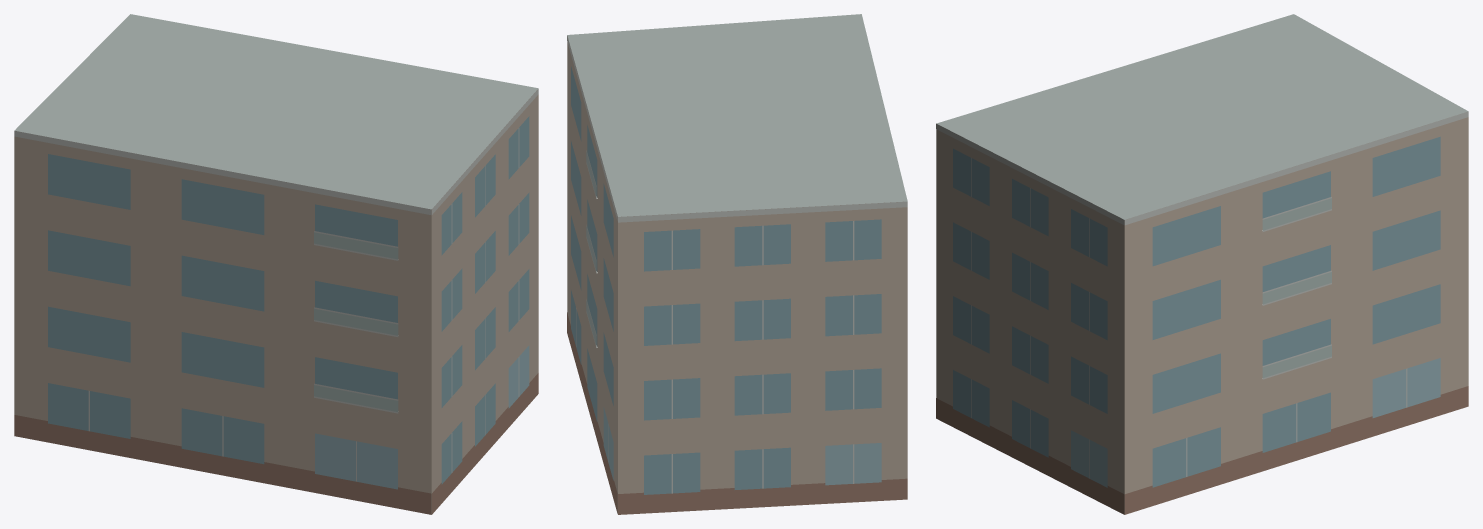
The model's file is survey-upis-32822349.glb.
The picture shows the model from 3 angles, left to right: view 1: azimuth 30°, elevation 25°; view 2: azimuth 150°, elevation 25°; view 3: azimuth 270°, elevation 25°; orthographic projection. The views are drawn at different scales.
Visible parts, largest first — view 1: survey-upis-32822349.tmp; view 2: survey-upis-32822349.tmp; view 3: survey-upis-32822349.tmp.
Part boxes in pixels (x1,y1,x2,y2): survey-upis-32822349.tmp: (14,14,538,514); survey-upis-32822349.tmp: (567,14,907,514); survey-upis-32822349.tmp: (936,14,1468,514).
Bounding box in the file's own units: 19.16 × 12.8 × 20.95.
